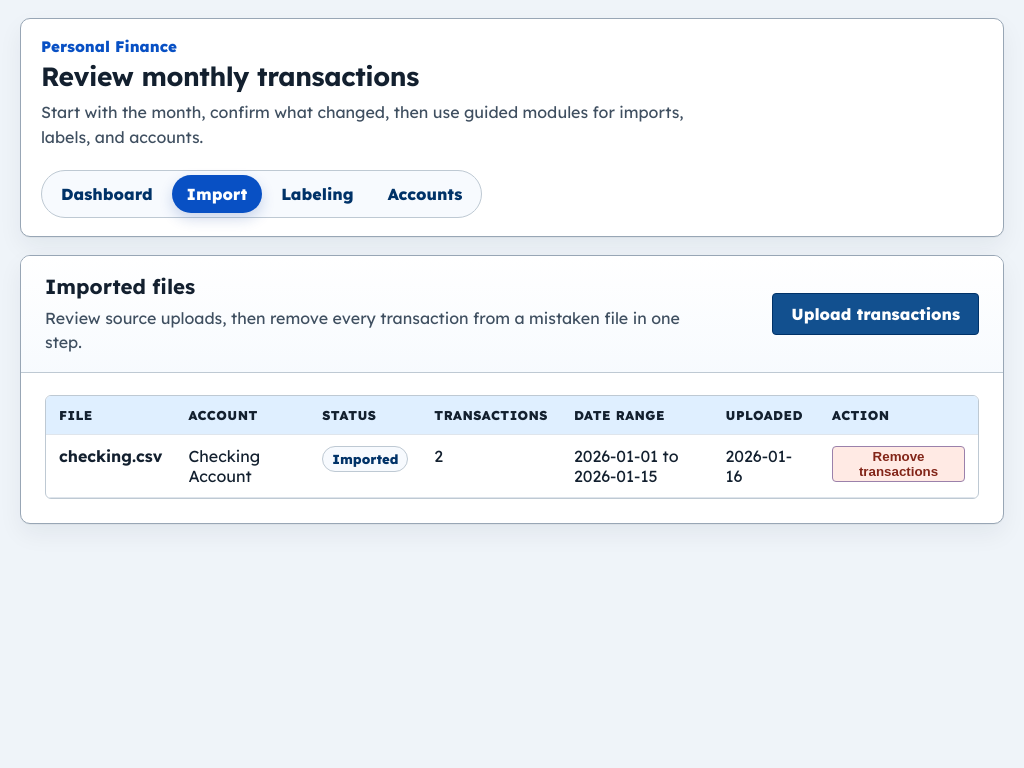
it: App › shows import upload ledger rows and removes transactions by upload
This screenshot has width=1024, height=768.
Expected: the text "checking.csv" is shown, [59,446,162,466]
Expected: the text "Checking Account" is shown, [175,435,309,498]
Click the button "Remove transactions" at coordinates (899, 464), box [832,446,965,482]
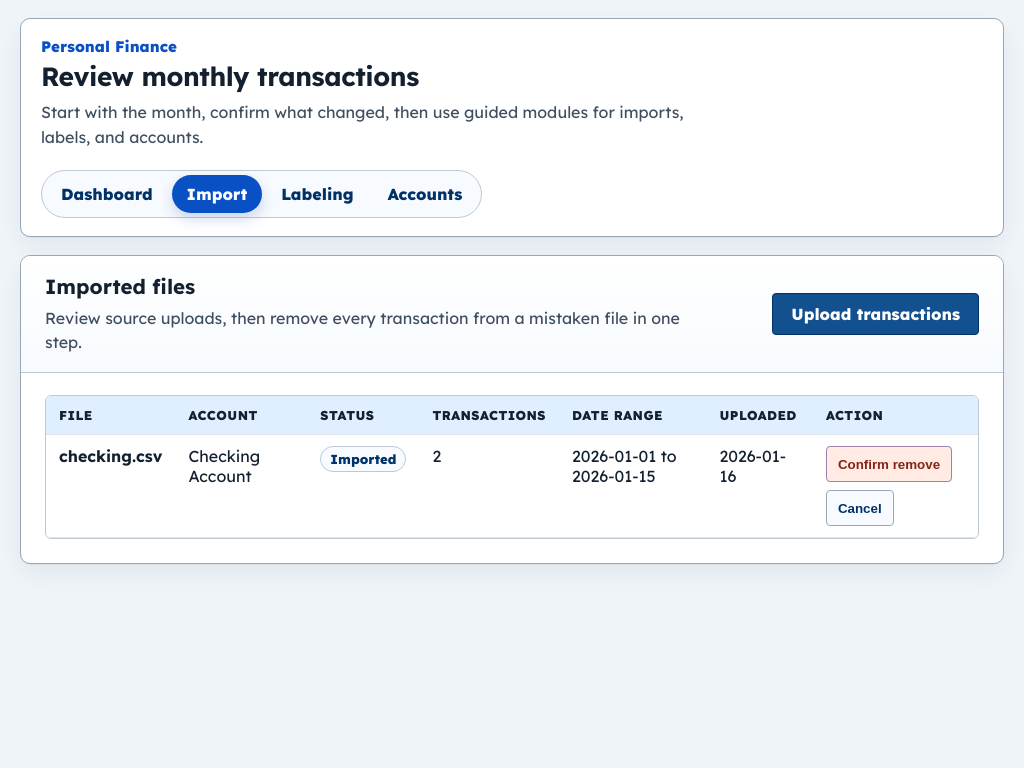
Click the button "Confirm remove" at coordinates (889, 464), box [826,446,952,482]
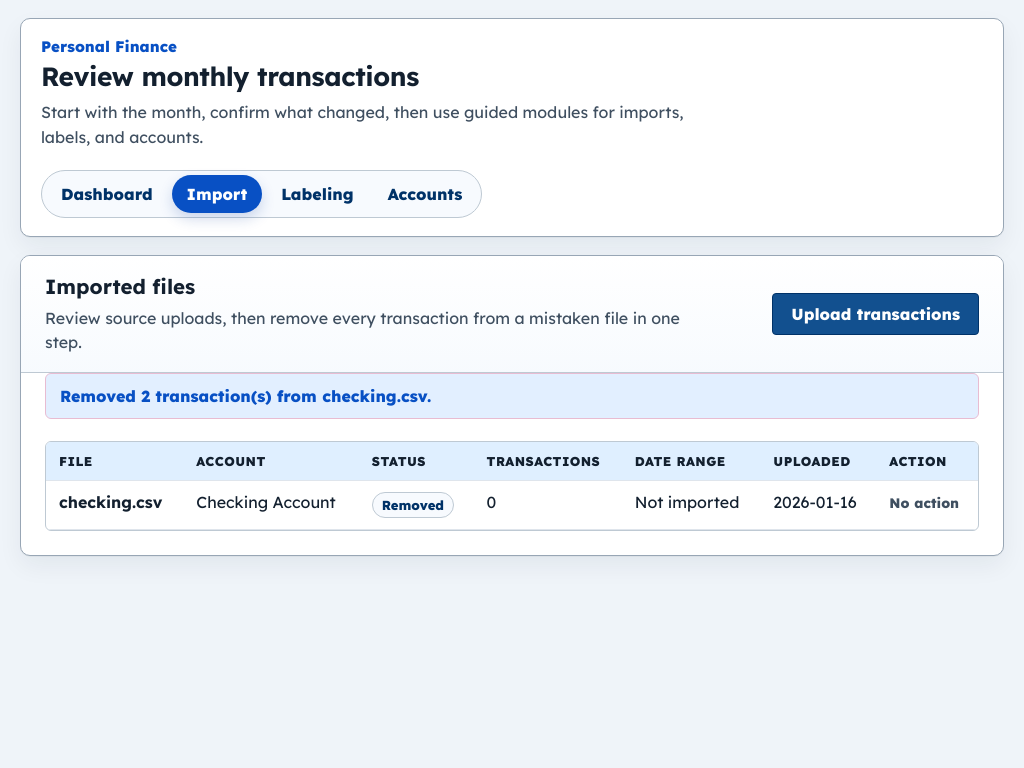
Expected: the button "Remove transactions" is not shown
Expected: the text "Removed 2 transaction(s) from checking.csv." is shown, [45,373,979,419]
Expected: the text "No action" is shown, [889,494,959,511]
